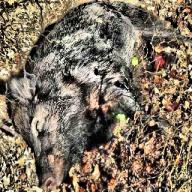boar: (4, 0, 192, 191)
